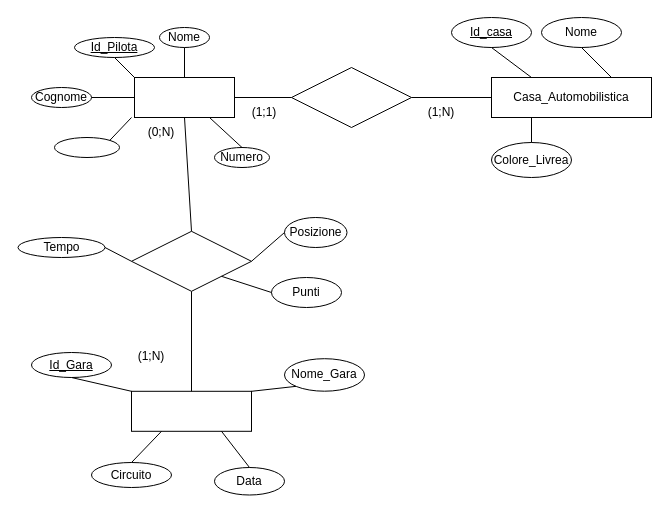
This 669x513 diagram has some shape labels left out. Here are the shapes that lost their labels. From the top down, the centre of each, then its label:
the point at 184,97: Pilota
the point at 351,97: contratto
the point at 87,147: Nazionalità
the point at 191,260: partecipazione
the point at 191,410: Gara
